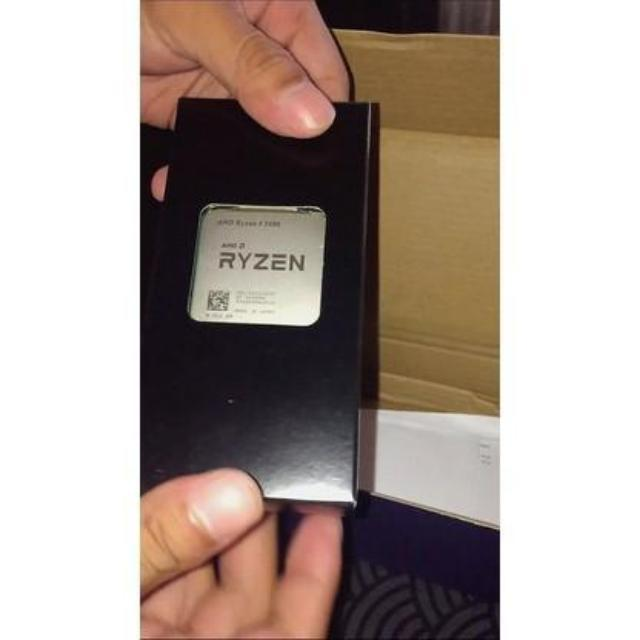CPU: (192, 202, 326, 331)
